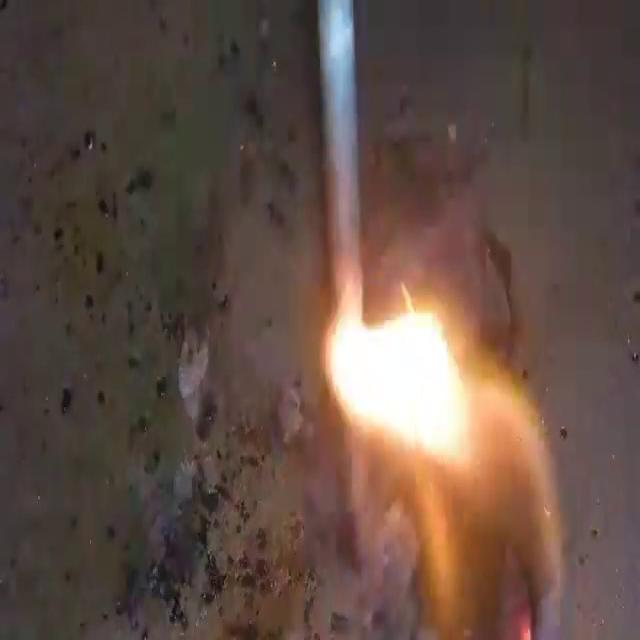Fire: (321, 274, 564, 636), (322, 283, 474, 464)
